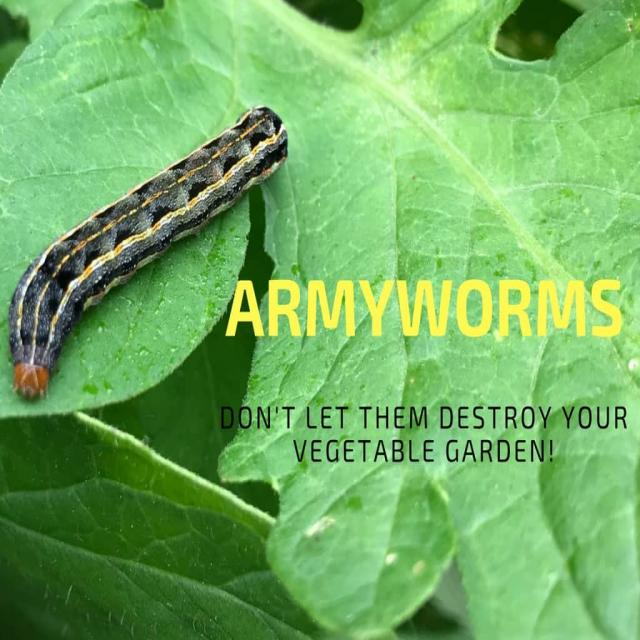pest-armyworm: (8, 100, 294, 412)
